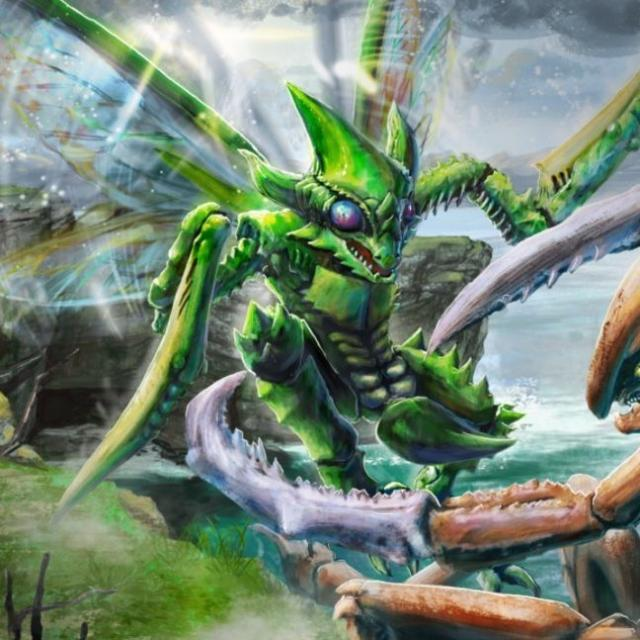Scyther: (0, 0, 589, 474)
